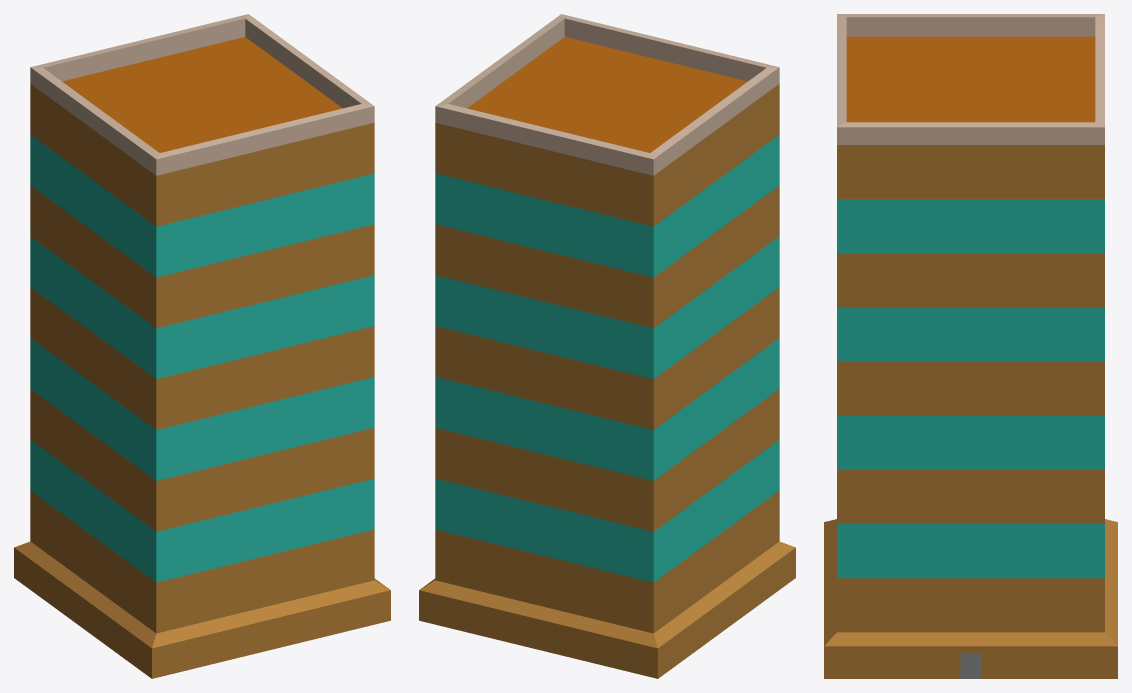
Rendered from Skyscraper7.fbx.
3 views of the same model, side by side, from view 1: azimuth 30°, elevation 25°; view 2: azimuth 150°, elevation 25°; view 3: azimuth 270°, elevation 25° (orthographic). The views are drawn at different scales.
Parts seen in each view (by area): view 1: Skyscraper7; view 2: Skyscraper7; view 3: Skyscraper7.
Part boxes in pixels (box(x1,y1,x2,y2)): Skyscraper7: box(14, 14, 390, 678); Skyscraper7: box(419, 14, 795, 678); Skyscraper7: box(824, 14, 1117, 678).
Bounding box in the file's own units: 219 × 450 × 219.
